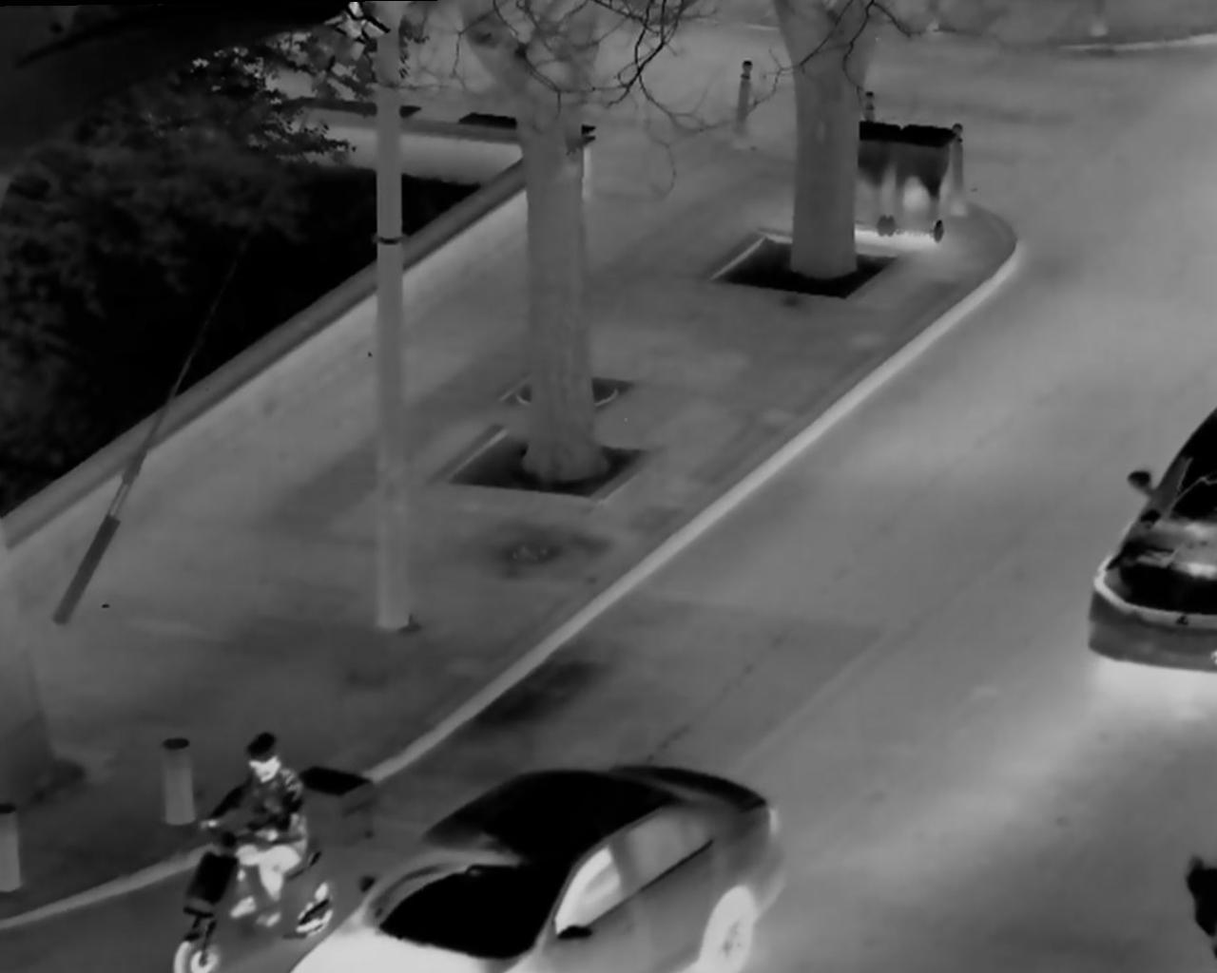person: (194, 707, 330, 951)
